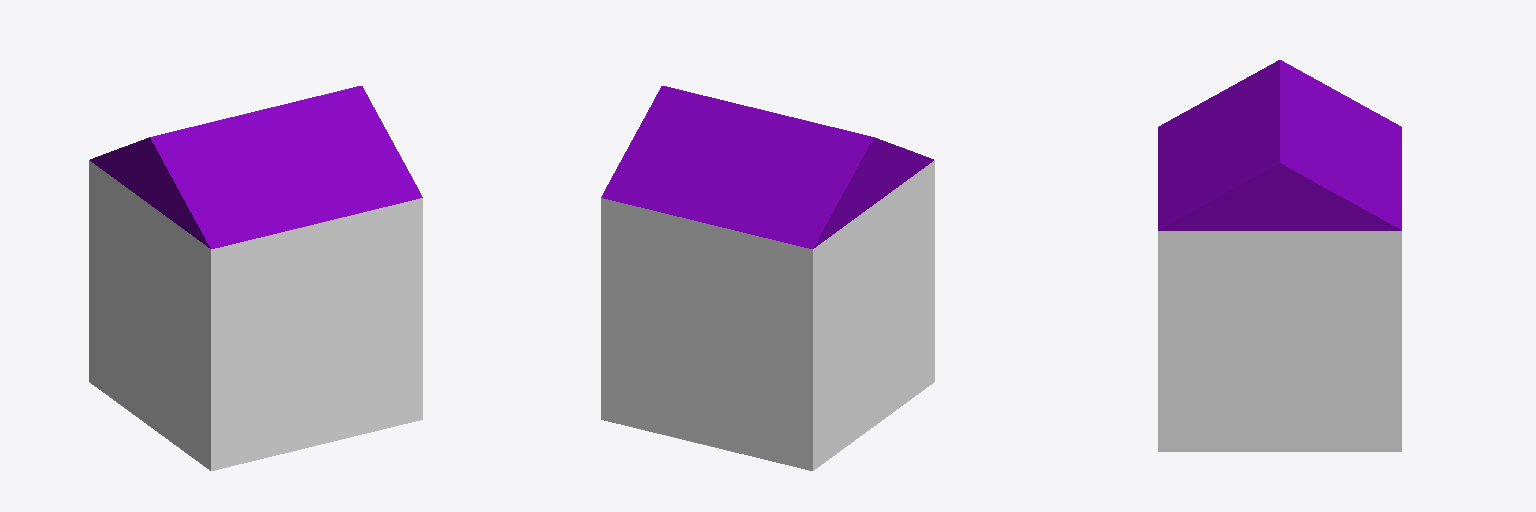
File: house2.obj
The picture shows the model from 3 angles: view 1: azimuth 30°, elevation 25°; view 2: azimuth 150°, elevation 25°; view 3: azimuth 270°, elevation 25°; orthographic projection.
Parts seen in each view (by area): view 1: cube1; view 2: cube1; view 3: cube1.
Boxes of the visible parts, x1,y1,x2,y2 form: cube1: [89, 86, 422, 470]; cube1: [601, 86, 934, 470]; cube1: [1158, 60, 1401, 451].
Bounding box in the file's own units: 1 × 1.3 × 1.